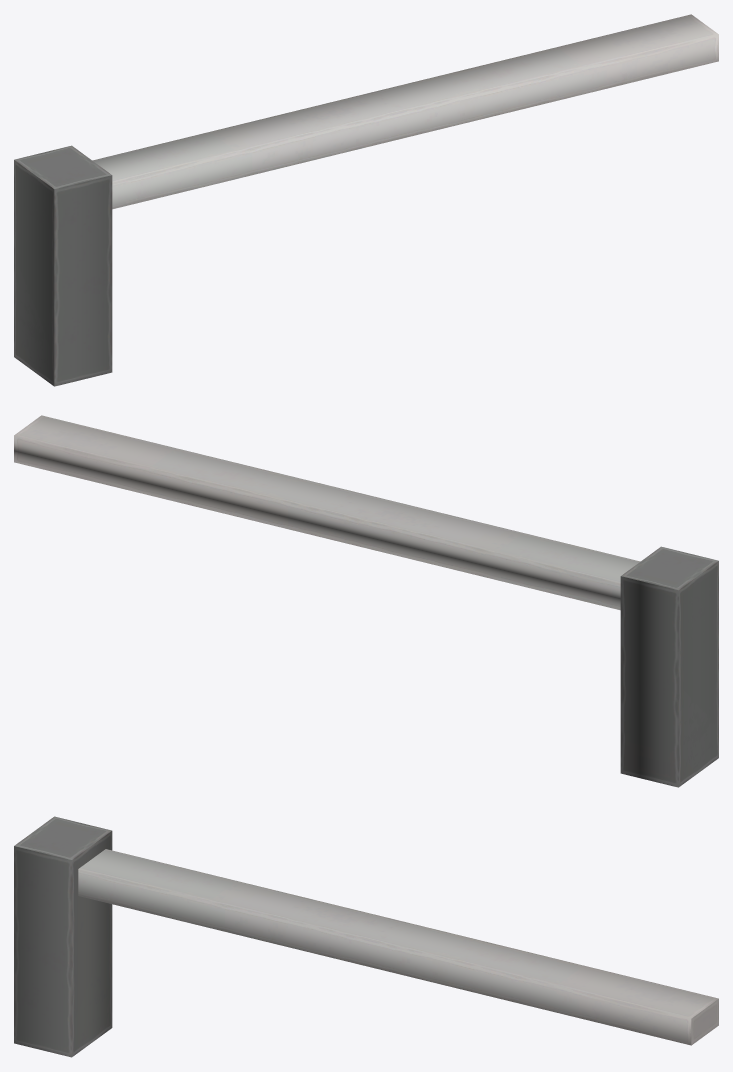
File: SM_Fence_02_C.glb
3 views of the same model, one above another, from view 1: azimuth 30°, elevation 25°; view 2: azimuth 150°, elevation 25°; view 3: azimuth 330°, elevation 25° (orthographic).
Visible parts, largest first — view 1: SM_Fence_02_C; view 2: SM_Fence_02_C; view 3: SM_Fence_02_C.
Part boxes in pixels (<box>): SM_Fence_02_C: <box>14,14,718,386</box>; SM_Fence_02_C: <box>14,415,718,787</box>; SM_Fence_02_C: <box>14,816,718,1057</box>.
Size of the model in its own units: 2.09 by 0.5867 by 0.2177.
Materials: 1 (1 with a texture image).
